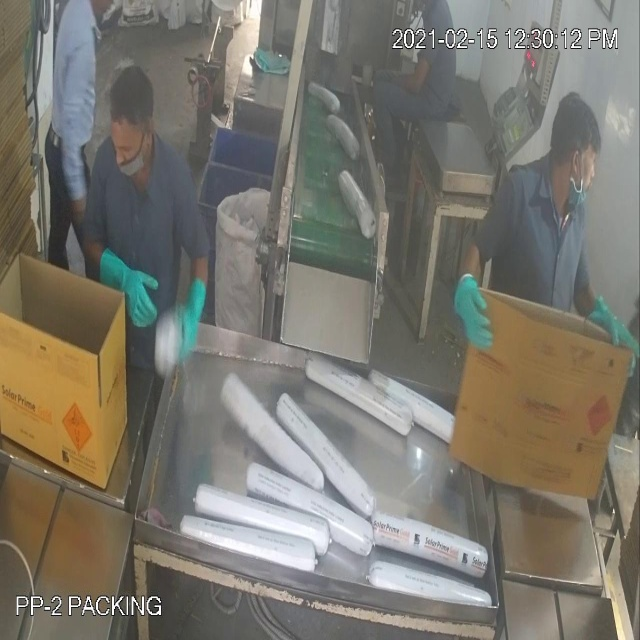Guantes: (561, 268, 640, 375), (86, 236, 161, 332), (442, 245, 502, 364), (170, 237, 214, 372)
Sin_guantes: (57, 37, 96, 228), (381, 37, 436, 99)
